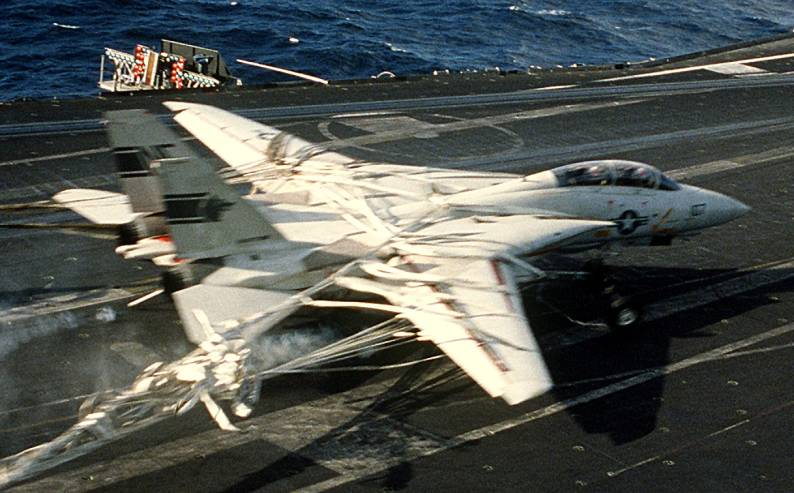F14: (51, 100, 750, 406)
